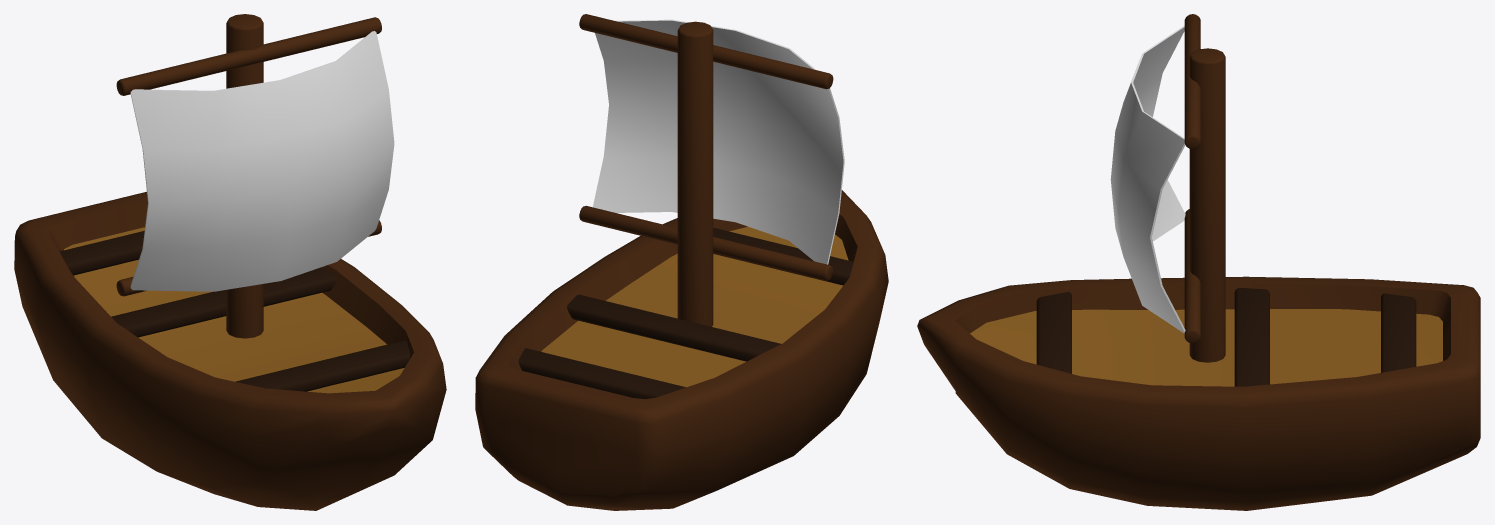
Rendered from shipMult.fbx.
The picture shows the model from 3 angles, left to right: view 1: azimuth 30°, elevation 25°; view 2: azimuth 150°, elevation 25°; view 3: azimuth 270°, elevation 25°; orthographic projection. The views are drawn at different scales.
Visible parts, largest first — view 1: ship.001; view 2: ship.001; view 3: ship.001.
Boxes of the visible parts, bbox=[...] form: ship.001: bbox=[14, 14, 446, 510]; ship.001: bbox=[475, 14, 888, 510]; ship.001: bbox=[917, 14, 1480, 510].
Size of the model in its own units: 207 by 332 by 382.
